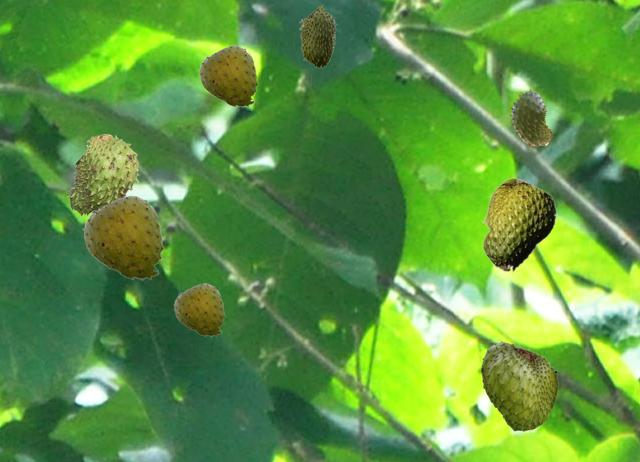guyabano: (481, 177, 556, 272), (82, 195, 163, 280), (481, 340, 557, 430), (66, 134, 138, 215), (198, 45, 257, 107), (508, 88, 552, 150), (173, 283, 224, 336), (299, 5, 336, 67)
